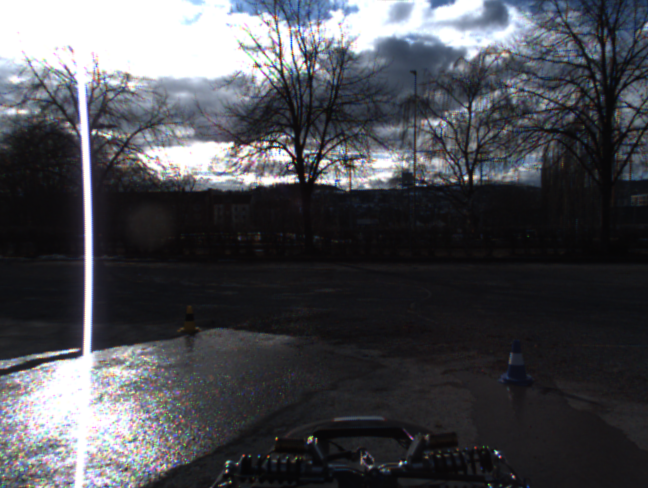cone-small-blue: (497, 338, 534, 385)
cone-small-yellow: (178, 304, 200, 333)
